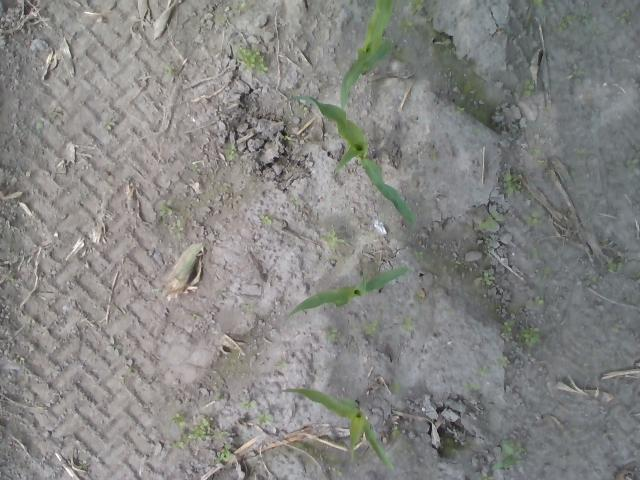Maize: (281, 94, 421, 229), (275, 387, 394, 471), (284, 257, 410, 317), (337, 0, 396, 112)
Weeds: (492, 441, 524, 469), (239, 46, 269, 74), (189, 416, 213, 440), (477, 212, 505, 230), (518, 328, 542, 347), (104, 334, 120, 358), (500, 172, 518, 192), (323, 232, 345, 248), (557, 15, 576, 32), (170, 413, 192, 427), (522, 77, 536, 98), (499, 319, 516, 336), (168, 436, 188, 450), (406, 0, 424, 15), (224, 142, 237, 162), (158, 200, 174, 216), (566, 64, 584, 78), (399, 16, 414, 31), (481, 271, 494, 288), (175, 219, 185, 241), (526, 211, 541, 225), (615, 10, 631, 23), (162, 64, 174, 81), (239, 398, 256, 410), (324, 326, 338, 340), (401, 317, 416, 330), (606, 260, 622, 272), (626, 158, 639, 172), (364, 320, 378, 333), (528, 147, 548, 156), (218, 448, 231, 461), (260, 214, 272, 226), (464, 382, 480, 391), (102, 120, 115, 131), (496, 356, 508, 367), (481, 471, 494, 480), (259, 414, 272, 422), (534, 297, 545, 306), (391, 426, 401, 434), (534, 0, 544, 8)
